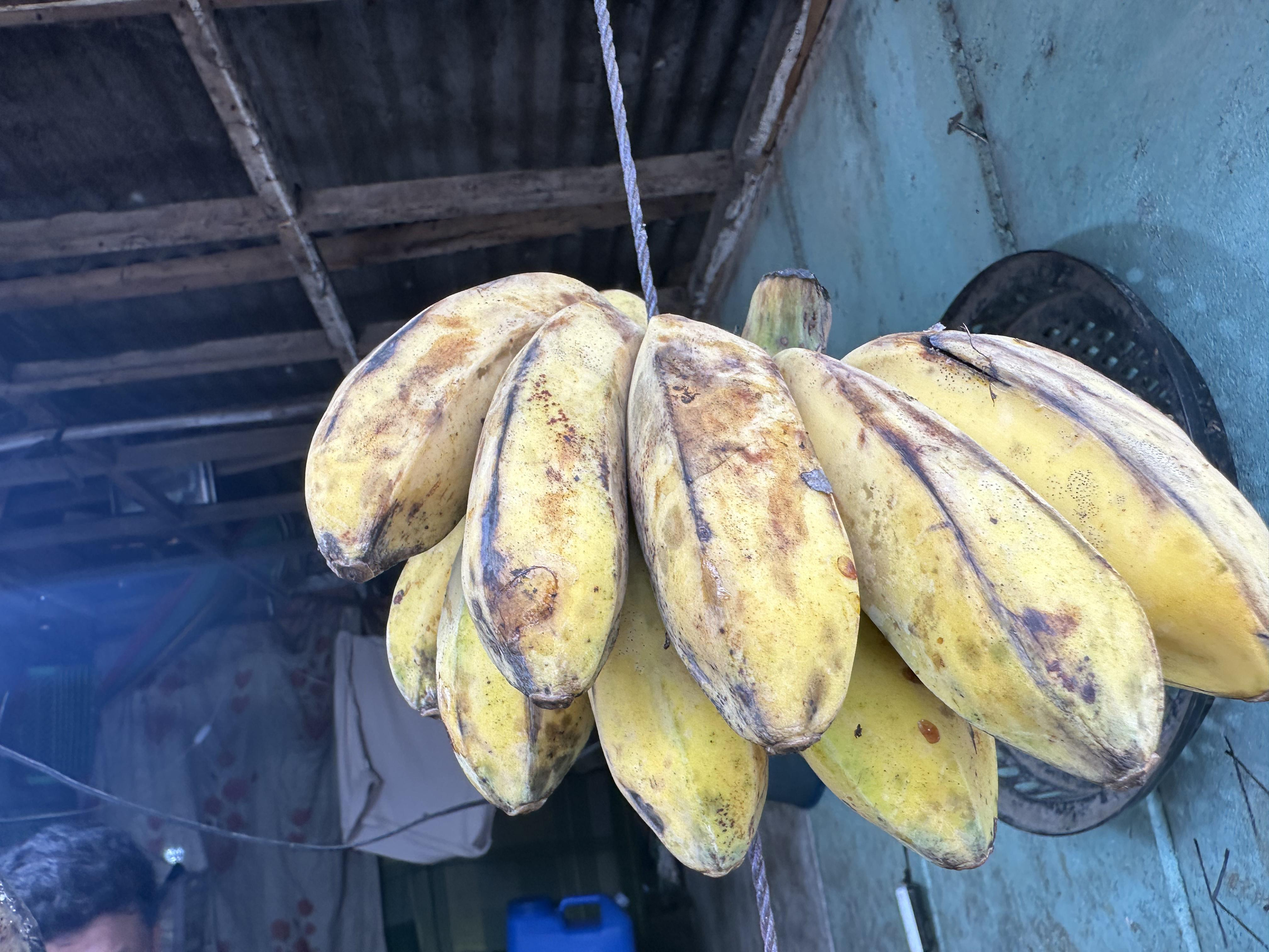ripe: (303, 271, 1269, 872)
